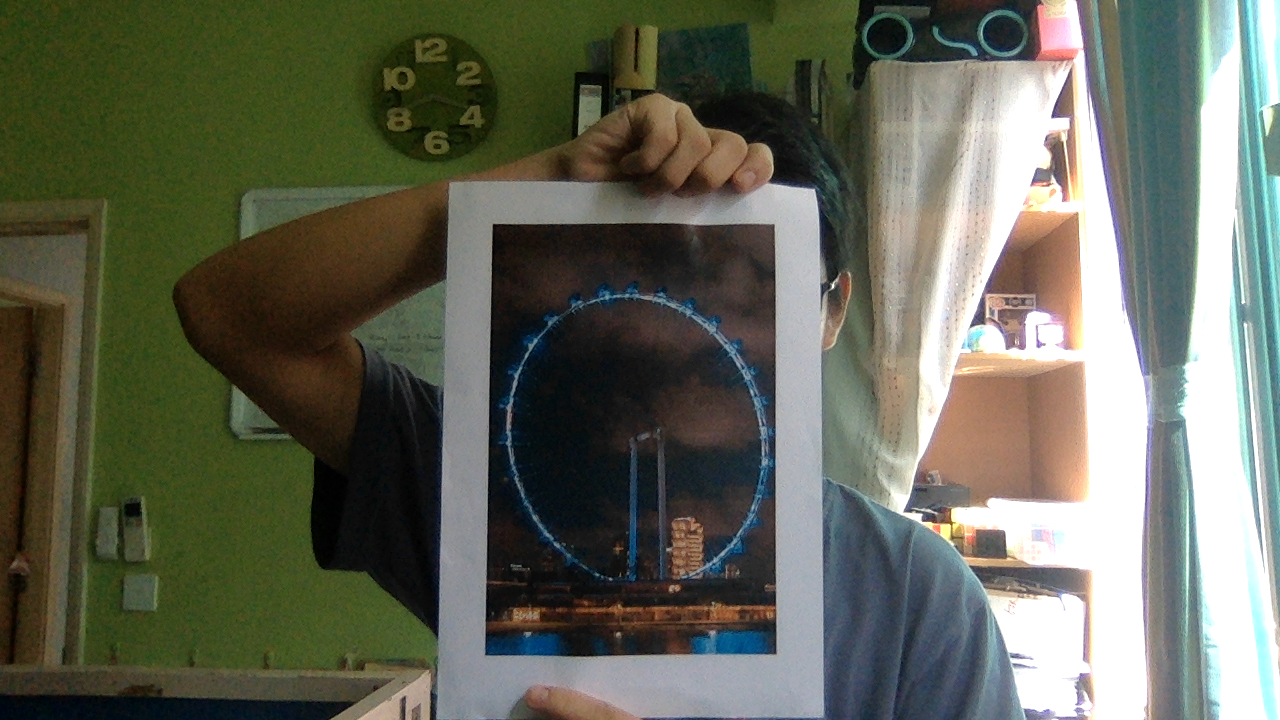Flyer: (487, 224, 781, 656)
